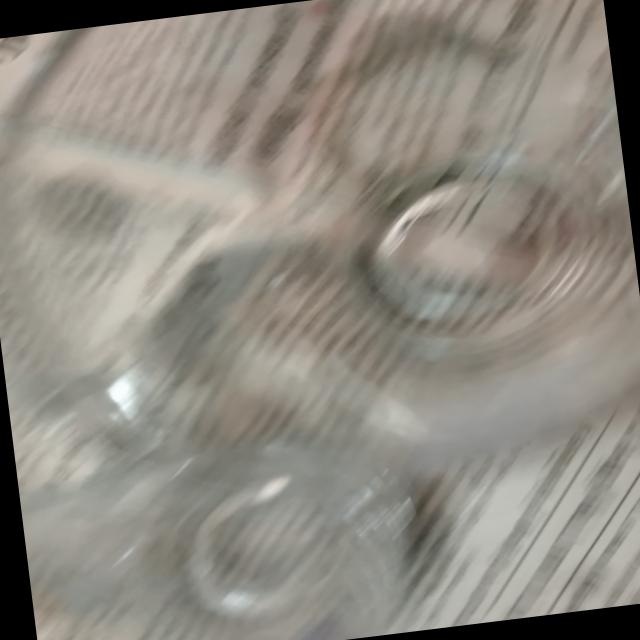glass-VX4N: (0, 0, 640, 530), (10, 345, 442, 640)
